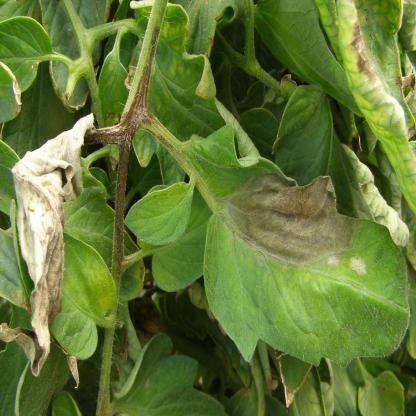tomato mold leaf: (198, 126, 410, 369), (122, 174, 197, 251)
